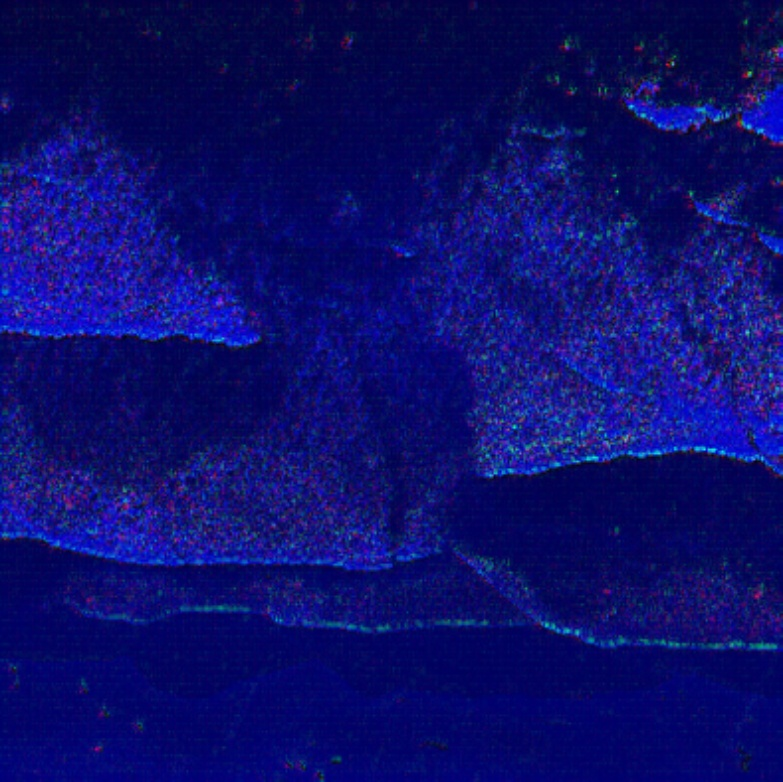rip_current: (200, 175, 524, 548)
